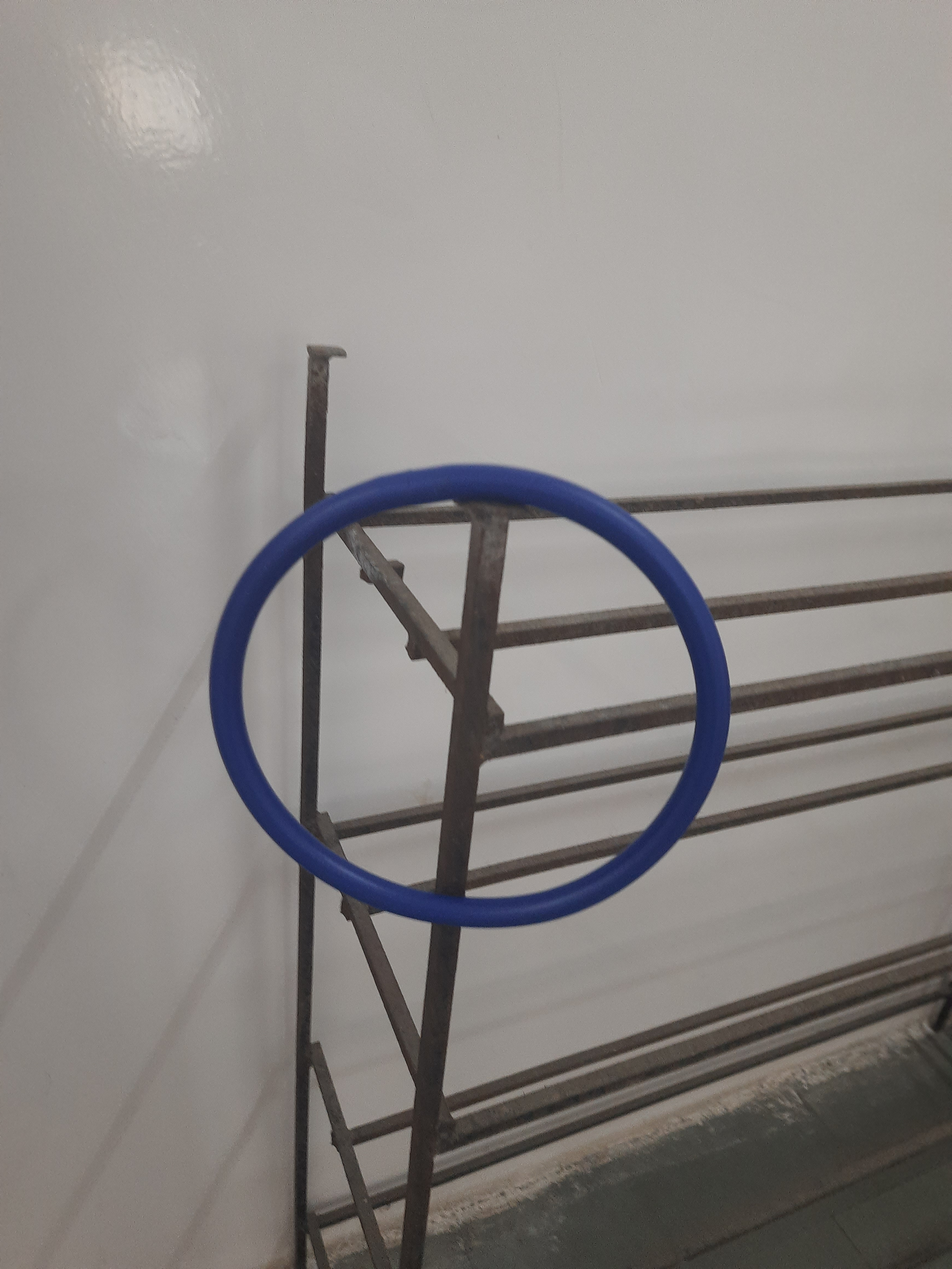Blue ring: (209, 467, 728, 928)
